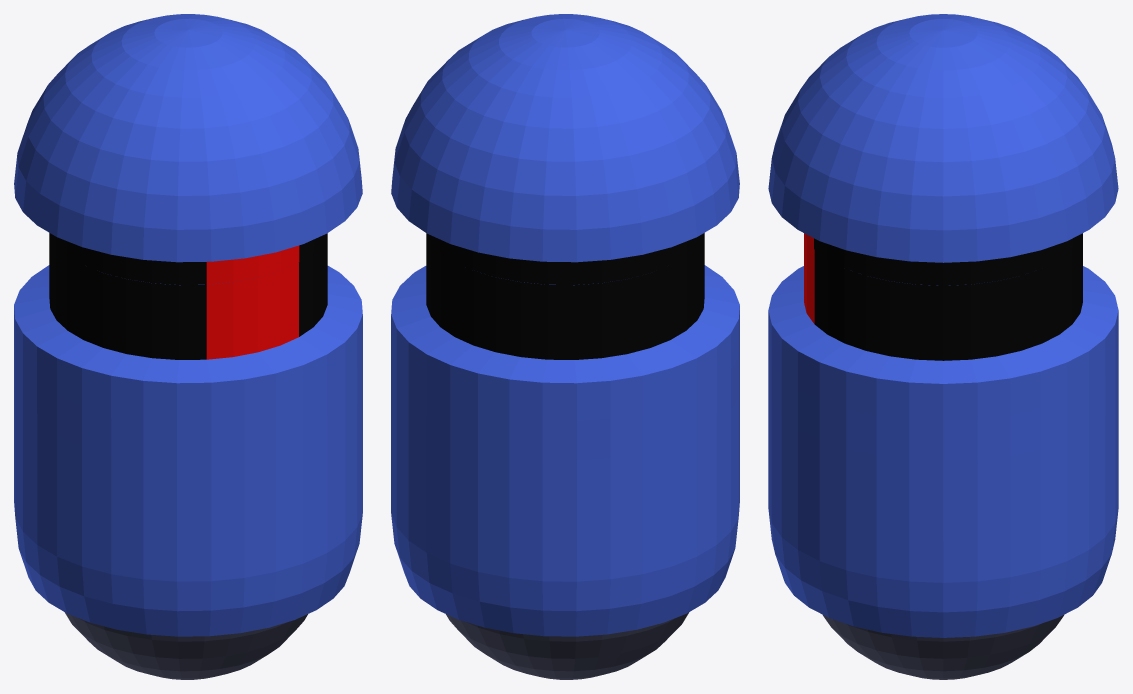
Rendered from GunnerT1.glb.
The picture shows the model from 3 angles, left to right: view 1: azimuth 30°, elevation 25°; view 2: azimuth 150°, elevation 25°; view 3: azimuth 270°, elevation 25°; orthographic projection.
Parts seen in each view (by area): view 1: GunnerT1; view 2: GunnerT1; view 3: GunnerT1.
Boxes of the visible parts, x1,y1,x2,y2 form: GunnerT1: [14, 14, 362, 679]; GunnerT1: [391, 14, 739, 679]; GunnerT1: [768, 14, 1118, 679].
Bounding box in the file's own units: 1 × 2.01 × 1.
